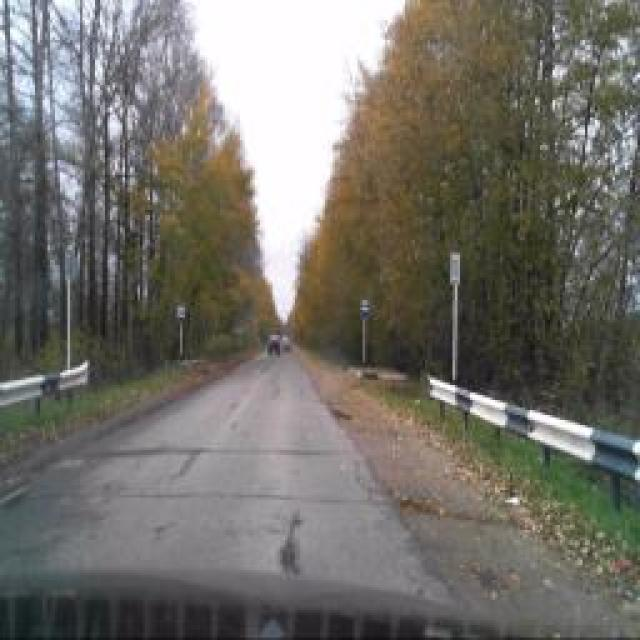sign: (176, 301, 186, 324), (360, 298, 370, 320)
